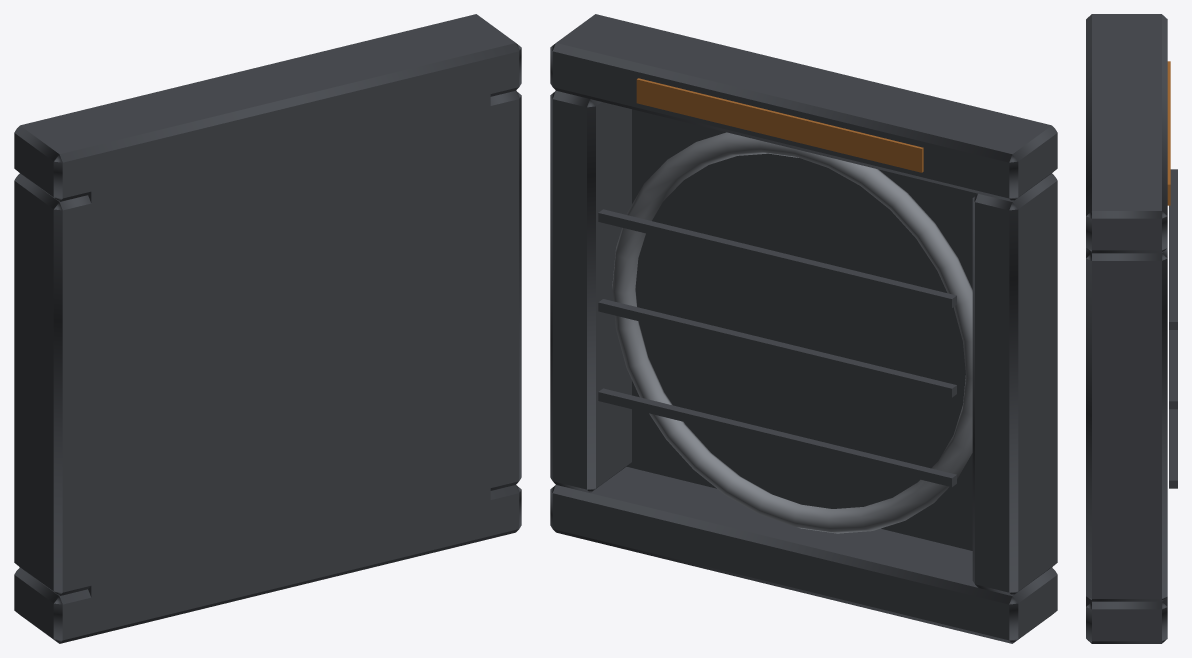
File: SM_SB_Kit_FanHousing.fbx
The picture shows the model from 3 angles, left to right: view 1: azimuth 30°, elevation 25°; view 2: azimuth 150°, elevation 25°; view 3: azimuth 270°, elevation 25°; orthographic projection. The views are drawn at different scales.
Visible parts, largest first — view 1: SM_SB_Kit_FanHousing; view 2: SM_SB_Kit_FanHousing; view 3: SM_SB_Kit_FanHousing.
Boxes of the visible parts, x1,y1,x2,y2 form: SM_SB_Kit_FanHousing: [14, 14, 521, 643]; SM_SB_Kit_FanHousing: [550, 14, 1057, 643]; SM_SB_Kit_FanHousing: [1086, 14, 1177, 643].
Bounding box in the file's own units: 164 × 31.5 × 164.
